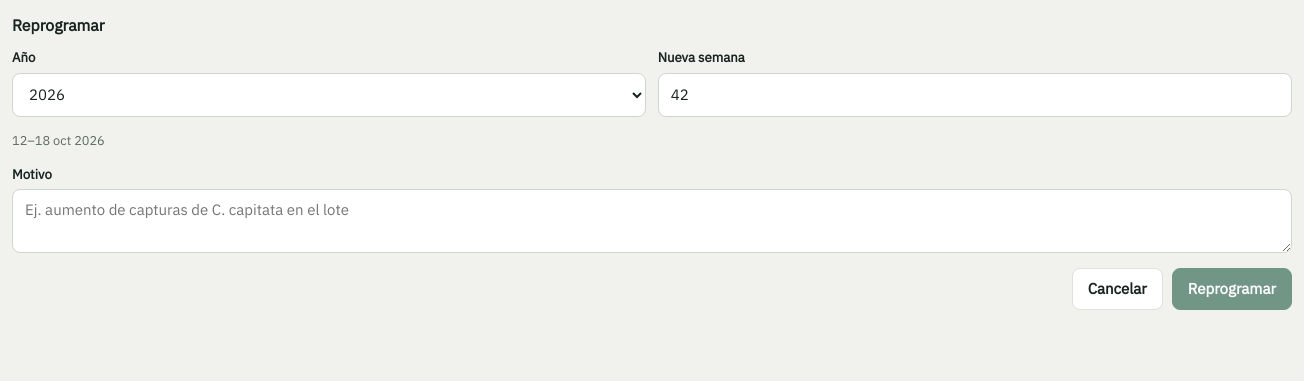
Test: Reprogramar › permite pasarla al año siguiente y muestra el error de la API
Select "2027" in the dropdown labelled "Año" at x=329, y=94, box [12,72,646,116]
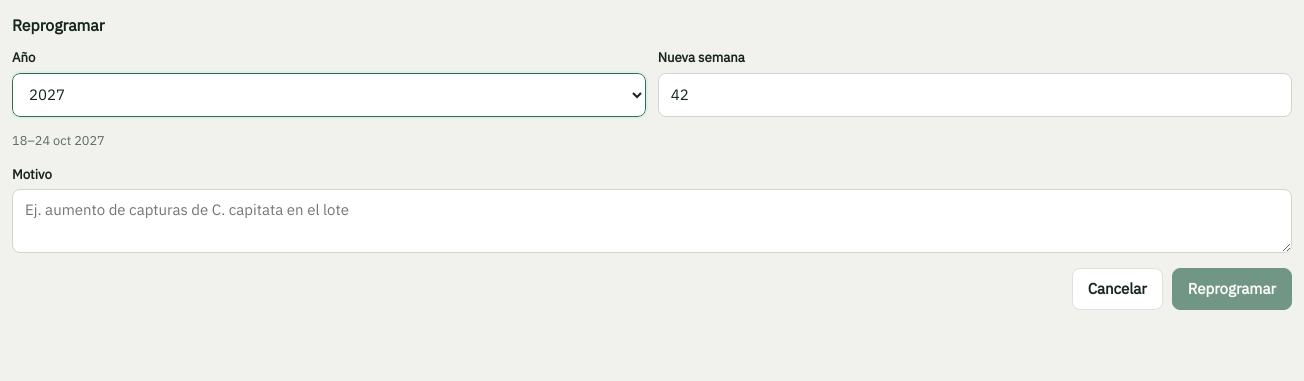
Type "Se aplaza la labor" into the text box labelled "Motivo" at x=652, y=221, box [12,189,1292,253]
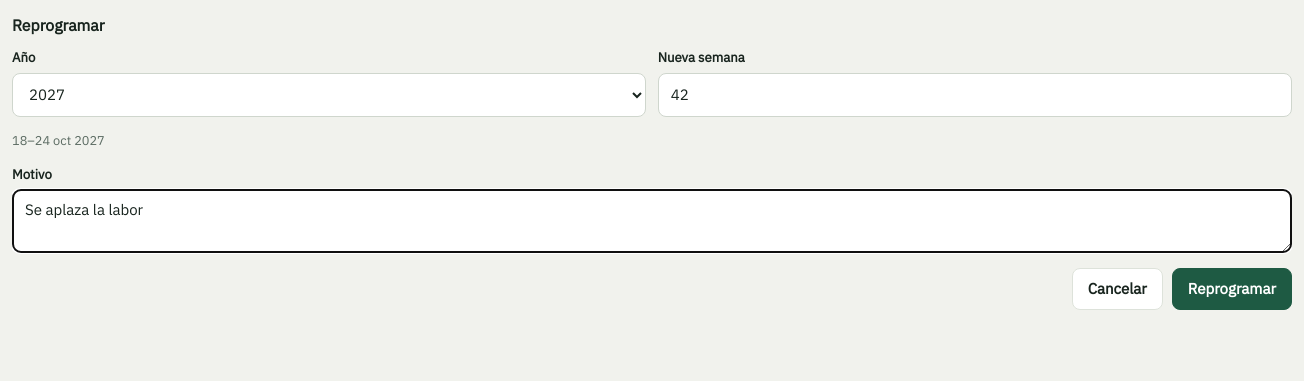
Click the button "Reprogramar" at x=1232, y=289, box [1172,268,1292,310]
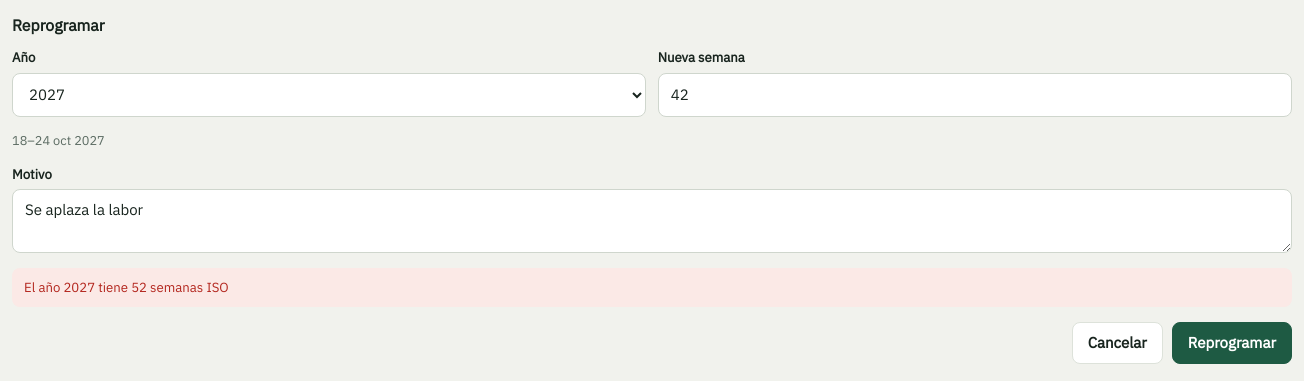
expect the message reads "El año 2027 tiene 52 semanas ISO": met, box [24,278,229,296]
